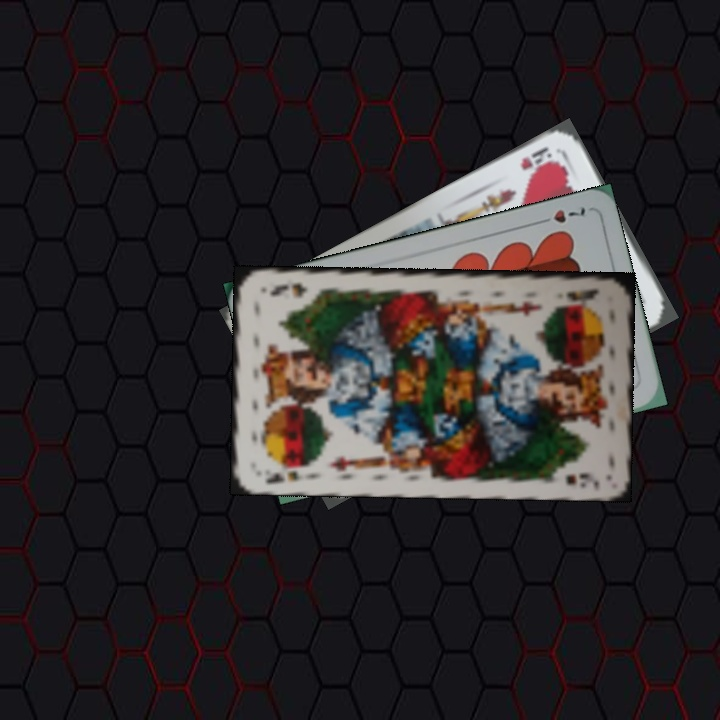H7: (532, 203, 588, 227)
HK: (516, 142, 562, 178)
SK: (261, 460, 314, 487), (563, 284, 602, 305)
